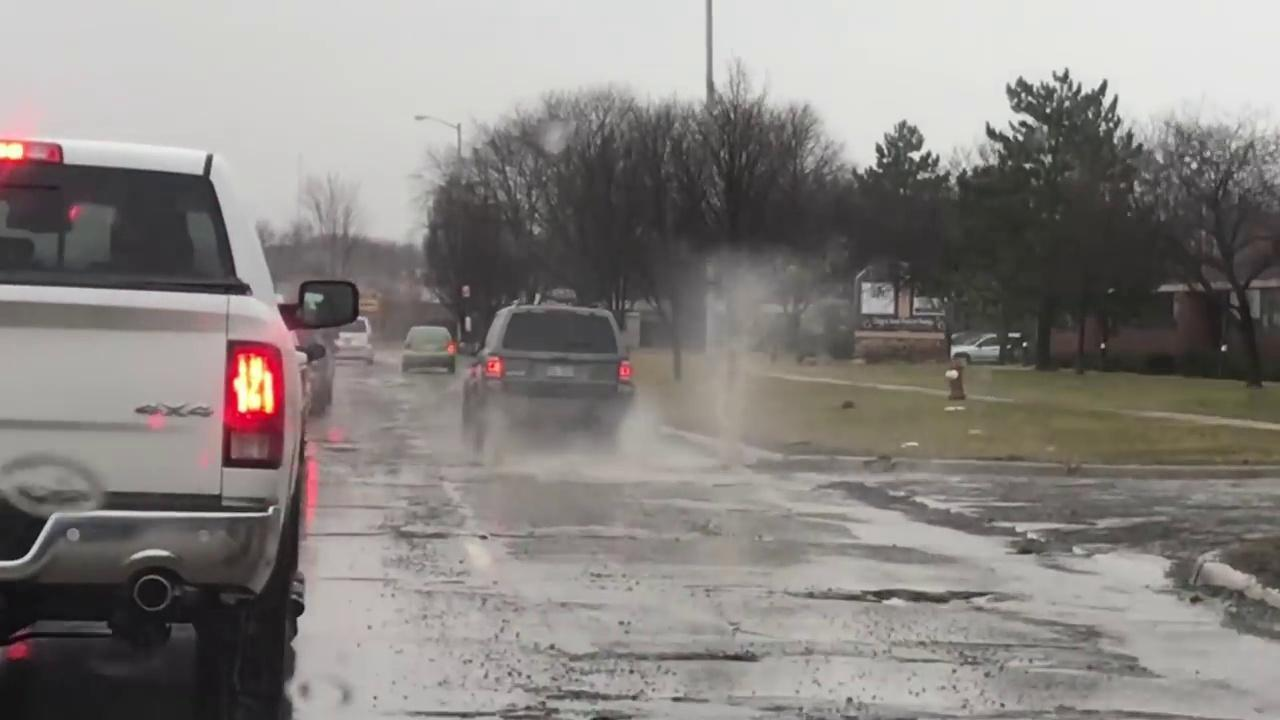pothole: (791, 588, 992, 603), (602, 651, 759, 662), (391, 527, 452, 538)
